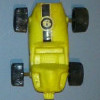carro: (13, 3, 83, 98)
